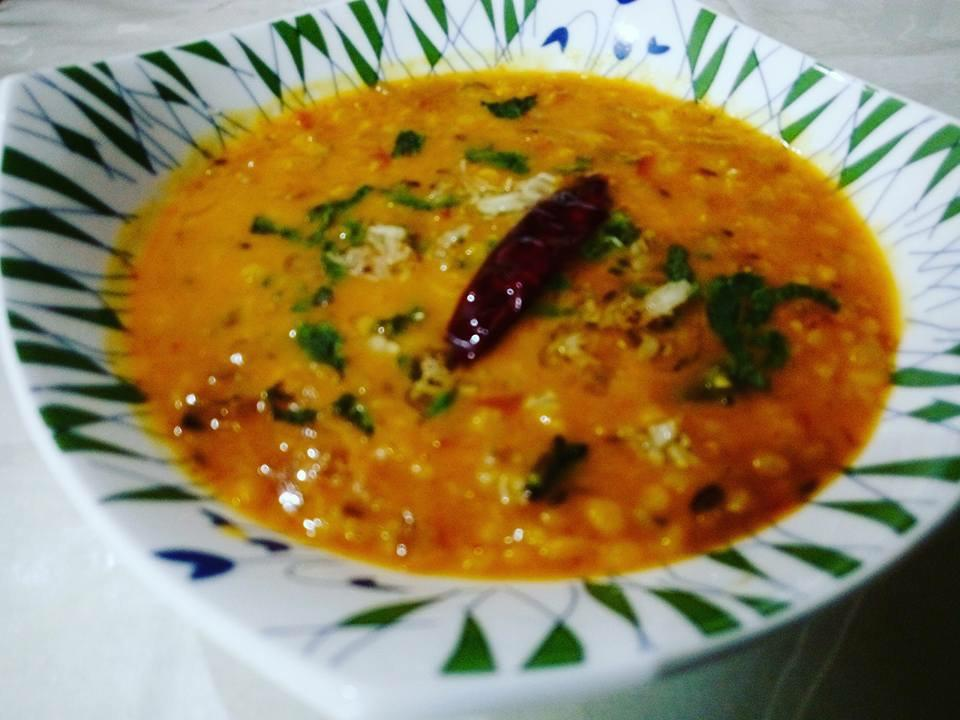Dal: (126, 73, 898, 575)
